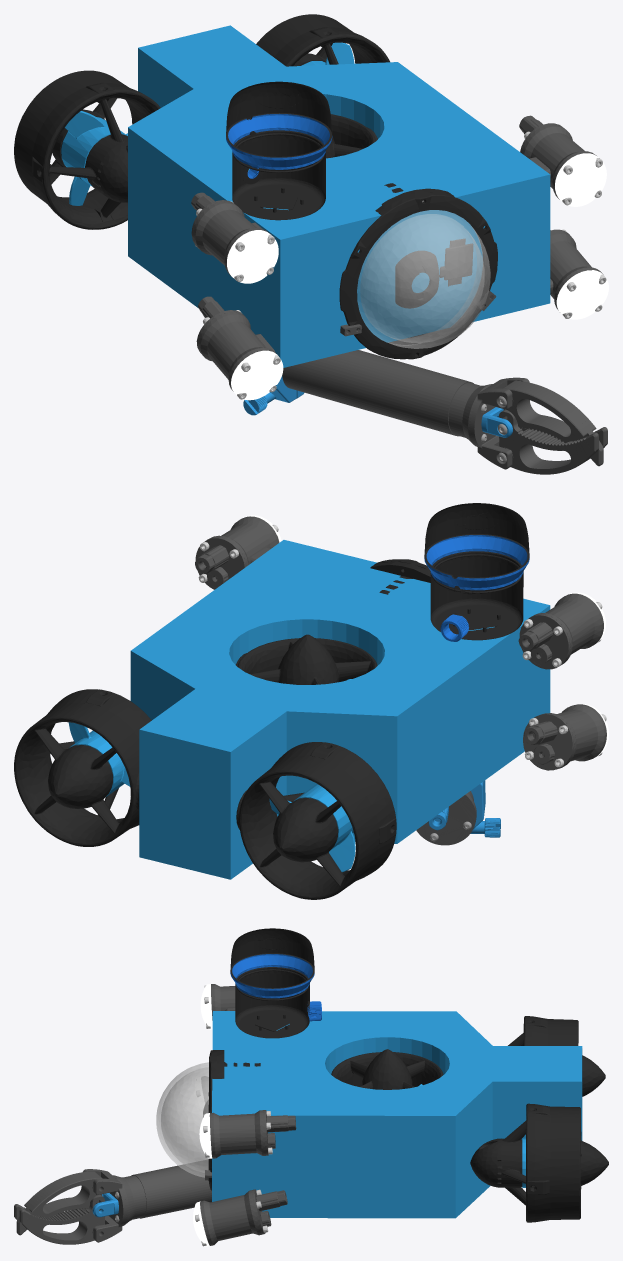
File: SIMPLEROV_3.glb
The picture shows the model from 3 angles, top to bottom: view 1: azimuth 30°, elevation 25°; view 2: azimuth 150°, elevation 25°; view 3: azimuth 270°, elevation 25°; orthographic projection. The views are drawn at different scales.
Parts seen in each view (by area): view 1: Cube, NEWTON_GRIPPER, LUMEN-ASM-R3-PUBLIC.049, motor3, BROV2-HEAVY-ASM-BROV2-HEAVY-R1.065, PING360.001, BROV2-HEAVY-ASM-BROV2-HEAVY-R1.066, motor4, BROV2-HEAVY-ASM-BROV2-HEAVY-R1.001, motor6.standard, BROV2-HEAVY-ASM-BROV2-HEAVY-R1.067; view 2: Cube, motor3, motor4, PING360.001, LUMEN-ASM-R3-PUBLIC.049, motor6.standard, NEWTON_GRIPPER, BROV2-HEAVY-ASM-BROV2-HEAVY-R1.067; view 3: Cube, motor4, NEWTON_GRIPPER, LUMEN-ASM-R3-PUBLIC.049, PING360.001, BROV2-HEAVY-ASM-BROV2-HEAVY-R1.065, motor6.standard, motor3, BROV2-HEAVY-ASM-BROV2-HEAVY-R1.066.
Part boxes in pixels (x1=…): Cube: x1=128, y1=25, x2=550, y2=367; NEWTON_GRIPPER: x1=243, y1=350, x2=607, y2=474; LUMEN-ASM-R3-PUBLIC.049: x1=191, y1=115, x2=608, y2=400; motor3: x1=14, y1=70, x2=160, y2=229; BROV2-HEAVY-ASM-BROV2-HEAVY-R1.065: x1=357, y1=200, x2=490, y2=348; PING360.001: x1=226, y1=81, x2=332, y2=220; BROV2-HEAVY-ASM-BROV2-HEAVY-R1.066: x1=339, y1=192, x2=497, y2=359; motor4: x1=256, y1=14, x2=389, y2=66; BROV2-HEAVY-ASM-BROV2-HEAVY-R1.001: x1=395, y1=241, x2=473, y2=308; motor6.standard: x1=326, y1=114, x2=377, y2=158; BROV2-HEAVY-ASM-BROV2-HEAVY-R1.067: x1=375, y1=188, x2=451, y2=344; Cube: x1=130, y1=540, x2=550, y2=879; motor3: x1=236, y1=742, x2=396, y2=899; motor4: x1=14, y1=689, x2=151, y2=846; PING360.001: x1=424, y1=503, x2=529, y2=641; LUMEN-ASM-R3-PUBLIC.049: x1=195, y1=515, x2=608, y2=770; motor6.standard: x1=236, y1=634, x2=377, y2=684; NEWTON_GRIPPER: x1=416, y1=780, x2=500, y2=845; BROV2-HEAVY-ASM-BROV2-HEAVY-R1.067: x1=370, y1=561, x2=430, y2=589; Cube: x1=212, y1=1011, x2=582, y2=1218; motor4: x1=470, y1=1103, x2=608, y2=1222; NEWTON_GRIPPER: x1=14, y1=1160, x2=211, y2=1244; LUMEN-ASM-R3-PUBLIC.049: x1=193, y1=984, x2=296, y2=1246; PING360.001: x1=230, y1=928, x2=321, y2=1038; BROV2-HEAVY-ASM-BROV2-HEAVY-R1.065: x1=156, y1=1062, x2=208, y2=1177; motor6.standard: x1=331, y1=1049, x2=443, y2=1089; motor3: x1=508, y1=1016, x2=605, y2=1096; BROV2-HEAVY-ASM-BROV2-HEAVY-R1.066: x1=208, y1=1050, x2=216, y2=1190.
Size of the model in its own units: 0.2802 by 0.2215 by 0.4813.
